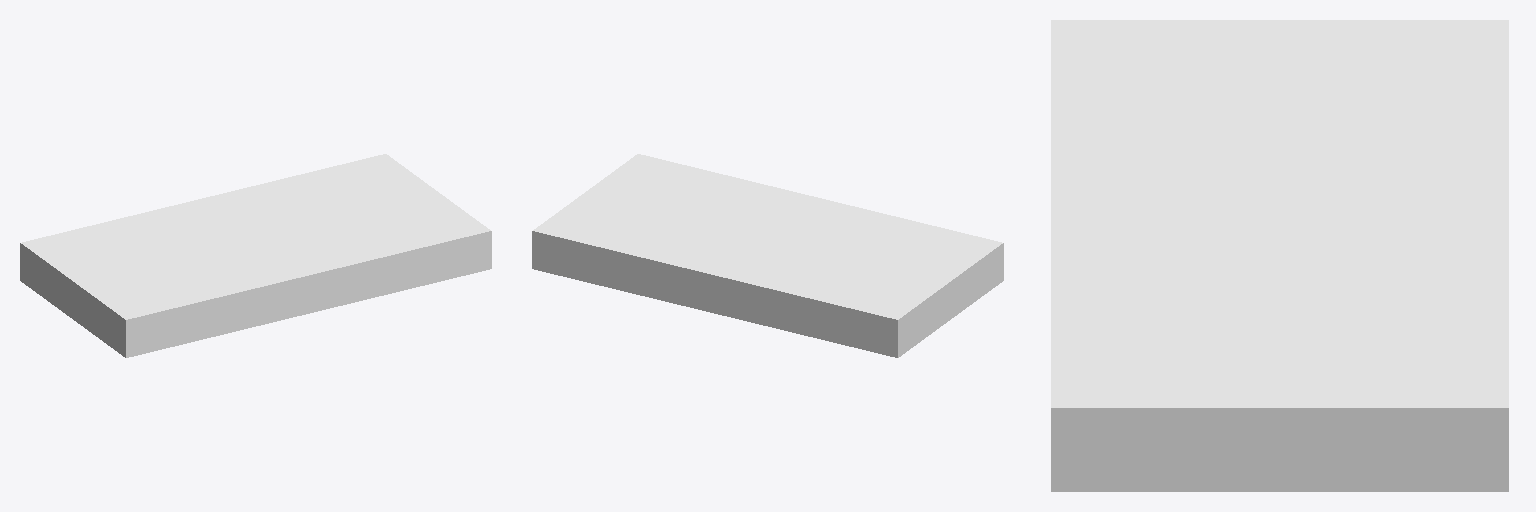
URDF robot description (wagon):
<?xml version="1.0"?>

<robot name="wagon">
	<link name="base_link">
		<visual>
			<geometry>
				<box size="1 .5 .1"/>
			</geometry>
			<origin rpy="0 0 0" xyz="0 0 0"/>
			<material name="white">
				<color rgba="1 1 1 1"/>
			</material>
		</visual>
	</link>

</robot>

--- Facts derived from the render (not from the file) ---
3 views of the same robot in one strip: view 1: azimuth 30°, elevation 25°; view 2: azimuth 150°, elevation 25°; view 3: azimuth 270°, elevation 25° (orthographic).
Model wagon with 1 links and 0 joints (none), rooted at base_link, posed all joints at 0.
Visible links, largest first — view 1: base_link; view 2: base_link; view 3: base_link.
Link boxes in pixels (bbox=[...]): base_link: bbox=[20, 154, 491, 357]; base_link: bbox=[532, 154, 1003, 357]; base_link: bbox=[1051, 20, 1508, 491].
Bounding box of the posed robot: 1 × 0.5 × 0.1 m (x, y, z).
Geometry: primitives only (box / cylinder / sphere), no mesh files.
